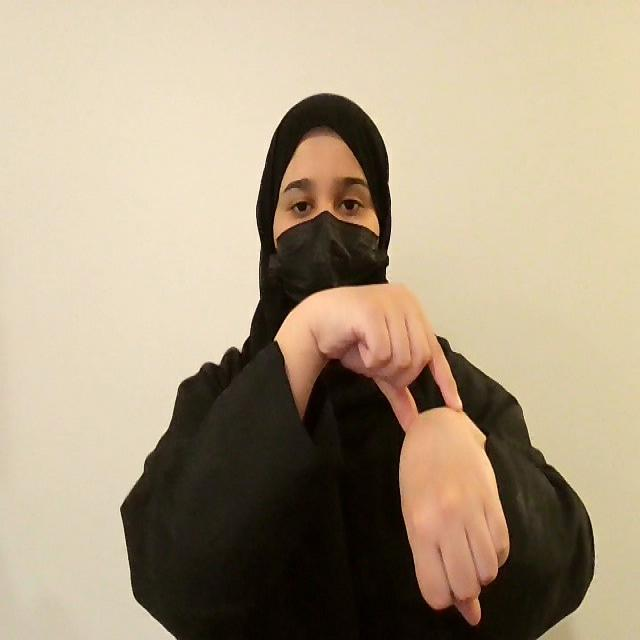appointment: (291, 280, 512, 627)
